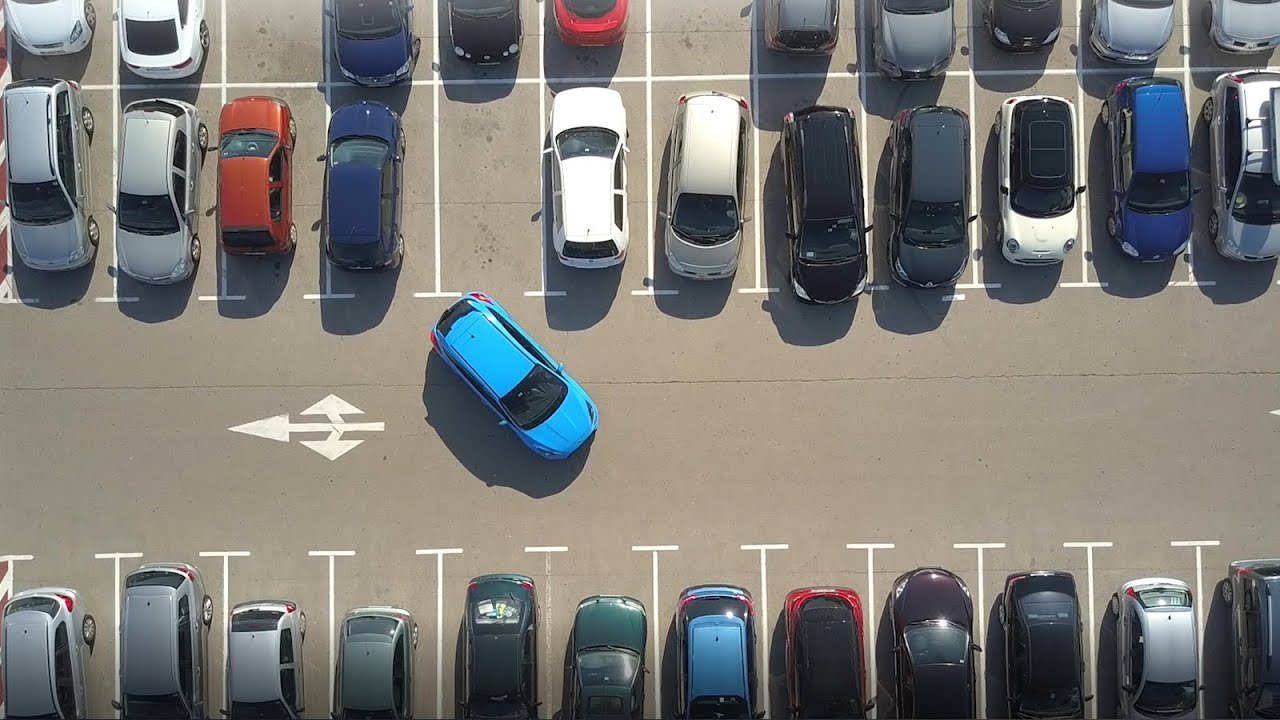car: (426, 290, 599, 463), (1, 79, 106, 280), (107, 91, 206, 298), (1089, 72, 1196, 262), (771, 102, 870, 304), (656, 83, 754, 285), (882, 99, 979, 292), (542, 82, 638, 275), (312, 97, 411, 282), (990, 89, 1082, 270), (114, 553, 213, 720), (1200, 66, 1280, 268), (992, 562, 1094, 720), (881, 562, 981, 720), (210, 94, 298, 265), (1102, 573, 1201, 720), (449, 567, 544, 720), (773, 582, 876, 720), (668, 580, 762, 720), (1, 578, 92, 719), (564, 589, 648, 720), (226, 600, 310, 720), (1222, 551, 1280, 719), (336, 605, 418, 720)
